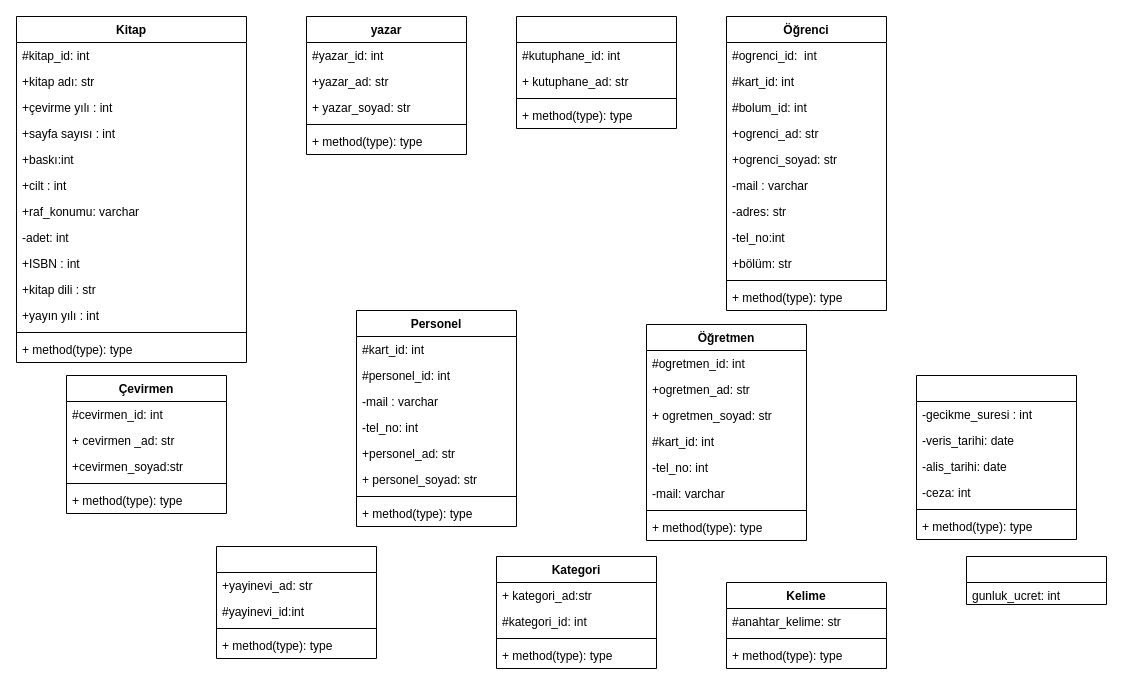
Image size: 1123x685. Some labels were removed from this diagram. The shapes that lost their labels are listed below. From the top down, each one's box as (x1, y1, x2, y2) in pixels, then its label:
(516, 16, 676, 128): Kütüphane
(916, 374, 1076, 540): Emanet
(966, 556, 1106, 604): CEZA
(216, 546, 376, 658): Yayınevi
